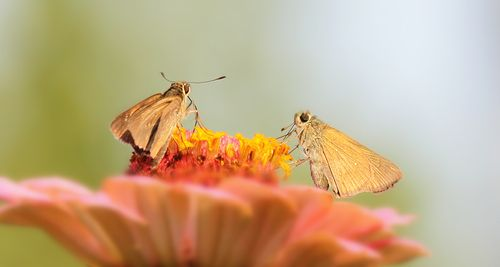Hesperiidae: (108, 68, 236, 163), (279, 109, 403, 197)
